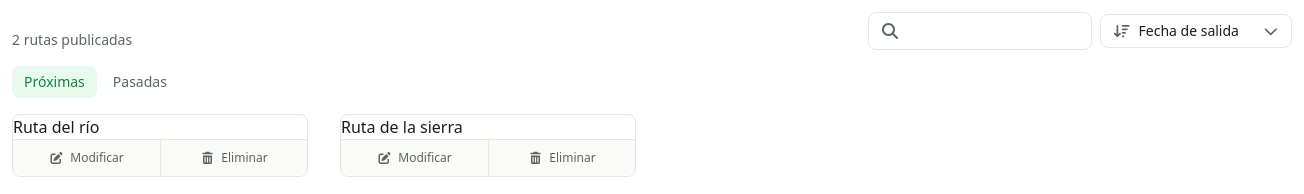
ProfileMyRidesTab › filters the rides by title while typing
The width and height of the screenshot is (1304, 194).
Type "sierra" into the search field at coordinates (980, 31), box x1=868 y1=12 x2=1092 y2=50
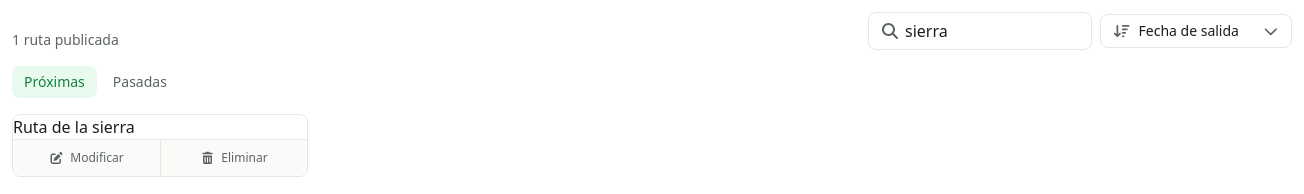
Now the text "1 ruta publicada" is shown, box x1=12 y1=30 x2=119 y2=50
Replace the text in the search field with "zzz" at coordinates (980, 31), box x1=868 y1=12 x2=1092 y2=50
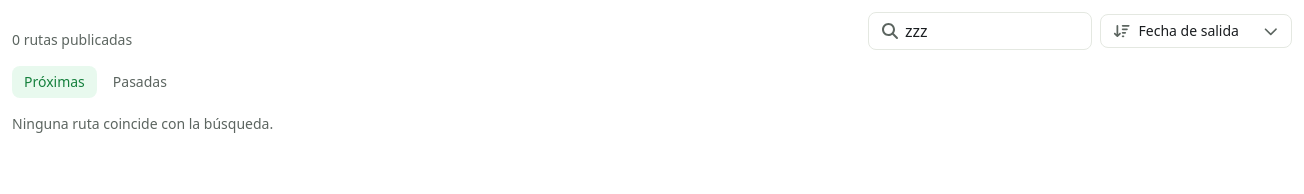
Now the text "Ninguna ruta coincide con la búsqueda." is shown, box x1=12 y1=114 x2=273 y2=133
